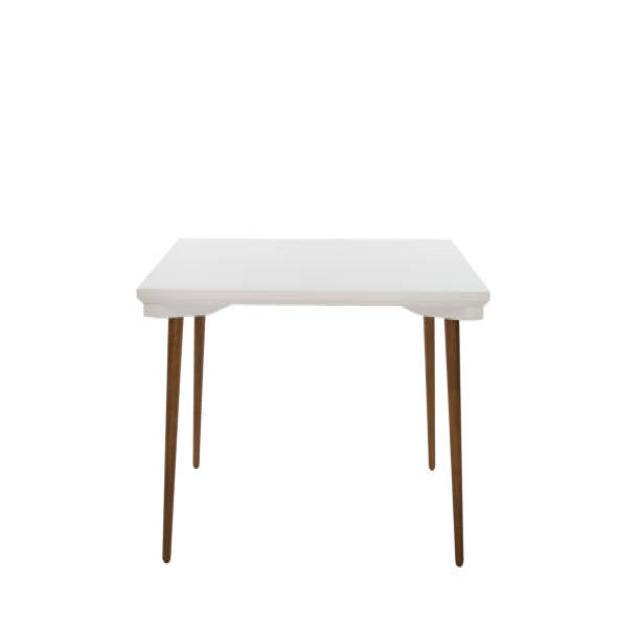table: (134, 235, 490, 568)
